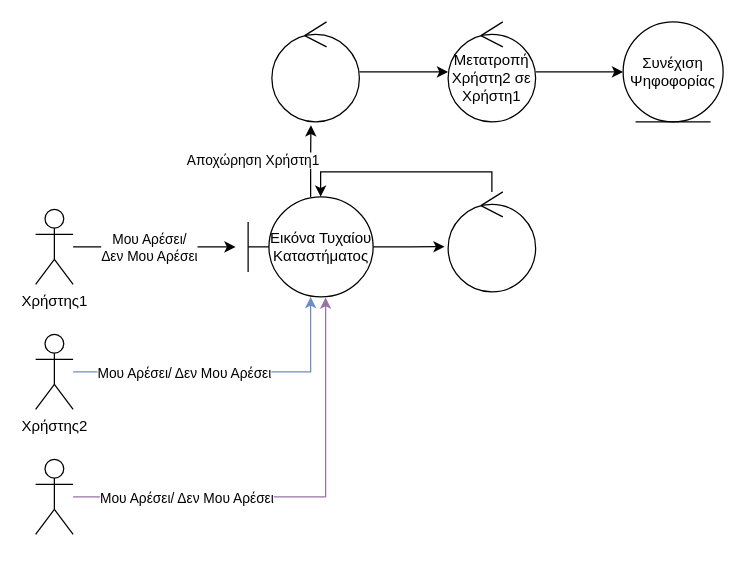
Image size: 745x583. Some labels were removed from this diagram. Each missing label, with the centre of its shape:
Διαγραφή Επιλογών Χρήστη1: the point at 315,71
Εμφάνισε: the point at 491,241
Χρήστης3: the point at 53,496
